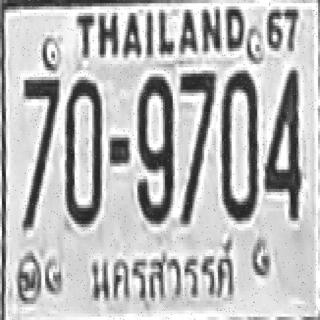N00: (220, 67, 257, 218), (65, 77, 100, 224)
N04: (263, 65, 300, 216)
N07: (22, 74, 59, 227), (179, 70, 214, 221), (22, 75, 59, 178)
N09: (136, 74, 172, 221)
P31: (86, 238, 242, 314)
